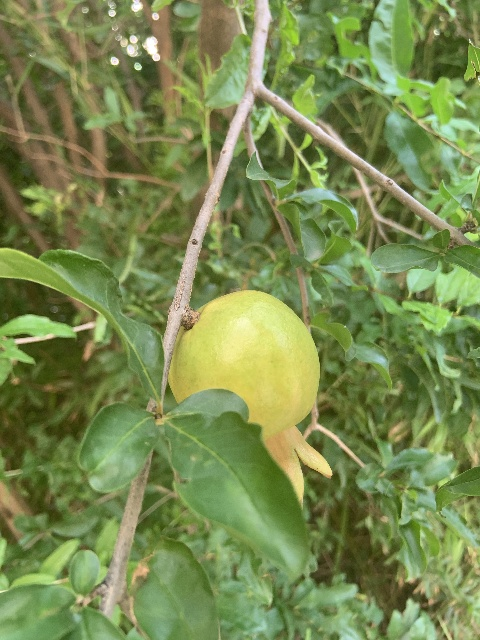mid-growth: (168, 290, 333, 505)
